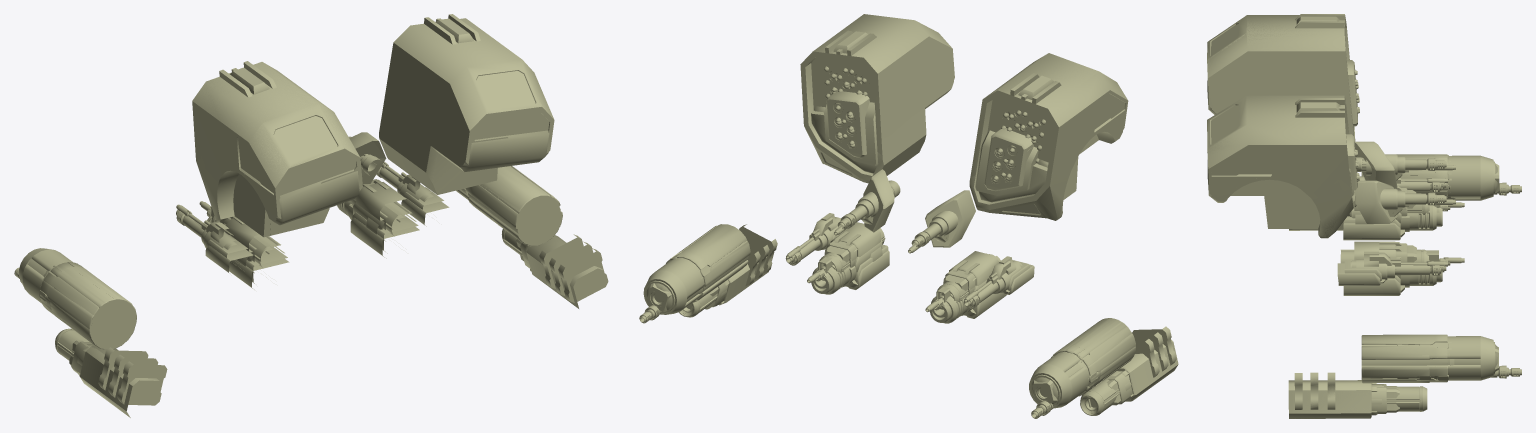
The model's file is MaulerWeapons.glb.
3 views of the same model, side by side, from view 1: azimuth 30°, elevation 25°; view 2: azimuth 150°, elevation 25°; view 3: azimuth 270°, elevation 25° (orthographic). The views are drawn at different scales.
Visible parts, largest first — view 1: Torso_Left_MH1_Missile10, Torso_Right_MH1_Missile10, Torso_Left_MH1_Missile15, Torso_Right_MH1_Missile15, Forearm_Left_EH1_PPC, Forearm_Left_EH2_Laser, Torso_Right_MH1_Blank, Torso_Left_MH1_Blank, Forearm_Right_EH2_PPC, Forearm_Right_BH1_AC5, Torso_Left_MH1_Missile20, Torso_Right_MH1_Missile20 (+15 smaller); view 2: Torso_Left_MH1_Missile10, Torso_Right_MH1_Missile10, Torso_Right_MH1_Missile15, Torso_Left_MH1_Missile15, Forearm_Left_EH1_PPC, Torso_Left_MH1_Missile6, Torso_Left_MH1_Missile20, Torso_Right_MH1_Missile6, Torso_Left_MH1_Missile4, Forearm_Left_EH2_Laser, Torso_Right_MH1_Missile4, Torso_Right_MH1_Missile20 (+26 smaller); view 3: Torso_Right_MH1_Missile10, Torso_Left_MH1_Missile10, Torso_Left_MH1_Missile15, Torso_Right_MH1_Missile2, Forearm_Right_EH2_Laser, Forearm_Right_EH1_PPC, Forearm_Left_EH1_PPC, Torso_Right_MH1_Missile15, Forearm_Right_BH1_AC10, Forearm_Right_EH2_Flamer, Forearm_Right_EH1_Laser, Torso_Left_BH1_AC20 (+19 smaller).
Boxes of the visible parts, box(x1,y1,x2,y2) form: Torso_Left_MH1_Missile10: box(192, 61, 362, 235); Torso_Right_MH1_Missile10: box(382, 14, 553, 182); Torso_Left_MH1_Missile15: box(195, 61, 361, 234); Torso_Right_MH1_Missile15: box(411, 15, 554, 194); Forearm_Left_EH1_PPC: box(19, 248, 136, 348); Forearm_Left_EH2_Laser: box(69, 340, 167, 410); Torso_Right_MH1_Blank: box(379, 111, 548, 181); Torso_Left_MH1_Blank: box(217, 168, 361, 237); Forearm_Right_EH2_PPC: box(501, 229, 608, 308); Forearm_Right_BH1_AC5: box(466, 166, 562, 245); Torso_Left_MH1_Missile20: box(192, 69, 353, 234); Torso_Right_MH1_Missile20: box(400, 18, 552, 181); Torso_Left_MH1_Missile10: box(970, 56, 1127, 219); Torso_Right_MH1_Missile10: box(800, 14, 952, 183); Torso_Right_MH1_Missile15: box(805, 32, 954, 182); Torso_Left_MH1_Missile15: box(985, 54, 1127, 217); Forearm_Left_EH1_PPC: box(1029, 318, 1135, 408); Torso_Left_MH1_Missile6: box(974, 110, 1125, 220); Torso_Left_MH1_Missile20: box(983, 53, 1128, 217); Torso_Right_MH1_Missile6: box(820, 89, 950, 175); Torso_Left_MH1_Missile4: box(969, 109, 1124, 215); Forearm_Left_EH2_Laser: box(1105, 326, 1178, 405); Torso_Right_MH1_Missile4: box(811, 102, 882, 176); Torso_Right_MH1_Missile20: box(802, 31, 950, 182); Torso_Right_MH1_Missile10: box(1207, 95, 1354, 237); Torso_Left_MH1_Missile10: box(1207, 14, 1355, 141); Torso_Left_MH1_Missile15: box(1207, 14, 1351, 115); Torso_Right_MH1_Missile2: box(1207, 160, 1359, 237); Forearm_Right_EH2_Laser: box(1288, 372, 1399, 413); Forearm_Right_EH1_PPC: box(1361, 336, 1493, 382); Forearm_Left_EH1_PPC: box(1362, 154, 1493, 200); Torso_Right_MH1_Missile15: box(1207, 100, 1355, 238); Forearm_Right_BH1_AC10: box(1361, 334, 1454, 380); Forearm_Right_EH2_Flamer: box(1288, 375, 1383, 418); Forearm_Right_EH1_Laser: box(1363, 342, 1498, 383); Torso_Left_BH1_AC20: box(1343, 205, 1442, 240).
Bounding box in the file's own units: 1.94 × 1.15 × 1.25.
